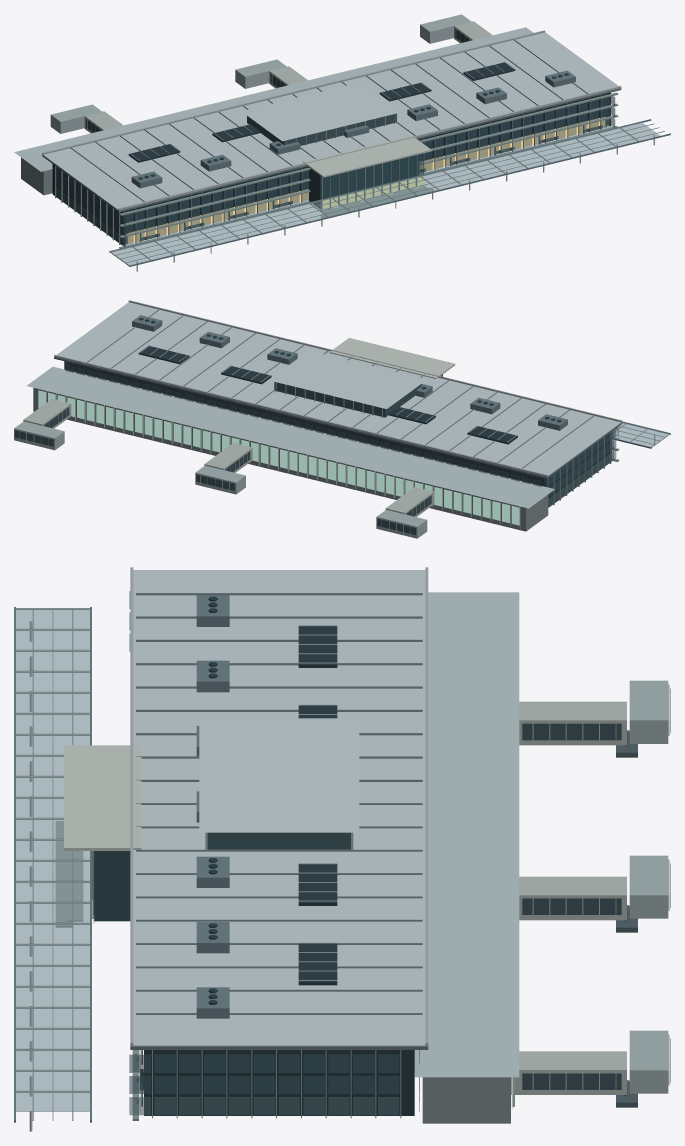
File: terminal.glb
The picture shows the model from 3 angles, top to bottom: view 1: azimuth 30°, elevation 25°; view 2: azimuth 150°, elevation 25°; view 3: azimuth 270°, elevation 25°; orthographic projection. The views are drawn at different scales.
Parts seen in each view (by area): view 1: terminal; view 2: terminal; view 3: terminal.
Boxes of the visible parts, x1=… form: terminal: x1=14, y1=14, x2=670, y2=271; terminal: x1=14, y1=300, x2=670, y2=538; terminal: x1=14, y1=567, x2=670, y2=1131.
Bounding box in the file's own units: 220 × 20.3 × 119.
